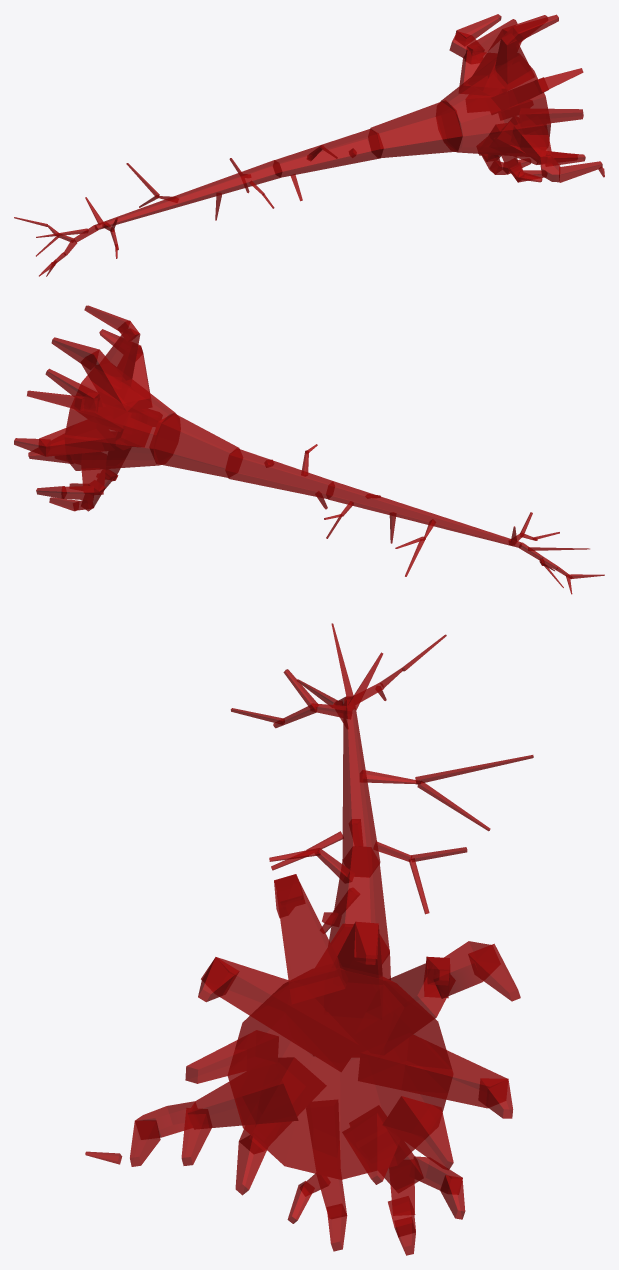
Rendered from SM_Env_Swamp_Log_01_Collision.fbx.
3 views of the same model, one above another, from view 1: azimuth 30°, elevation 25°; view 2: azimuth 150°, elevation 25°; view 3: azimuth 270°, elevation 25° (orthographic). The views are drawn at different scales.
Parts seen in each view (by area): view 1: SM_Env_Swamp_Log_01_Collision; view 2: SM_Env_Swamp_Log_01_Collision; view 3: SM_Env_Swamp_Log_01_Collision.
Part boxes in pixels (x1=…): SM_Env_Swamp_Log_01_Collision: x1=14, y1=14, x2=604, y2=276; SM_Env_Swamp_Log_01_Collision: x1=14, y1=305, x2=604, y2=594; SM_Env_Swamp_Log_01_Collision: x1=85, y1=623, x2=533, y2=1255.
Bounding box in the file's own units: 2345 × 741 × 857.
